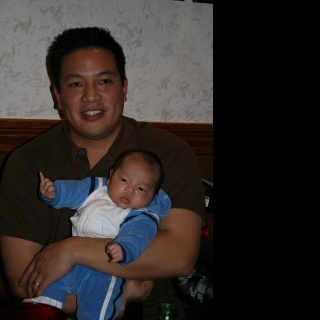without_mask: (49, 24, 128, 136), (105, 149, 164, 208)
